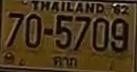0: (92, 17, 108, 51), (25, 13, 41, 47)
5: (55, 14, 72, 48)
7: (8, 12, 24, 46), (74, 16, 90, 50)
9: (111, 18, 128, 52)
TAK: (51, 55, 79, 69)
